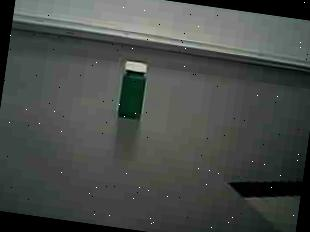Bottle C: (111, 53, 158, 130)
